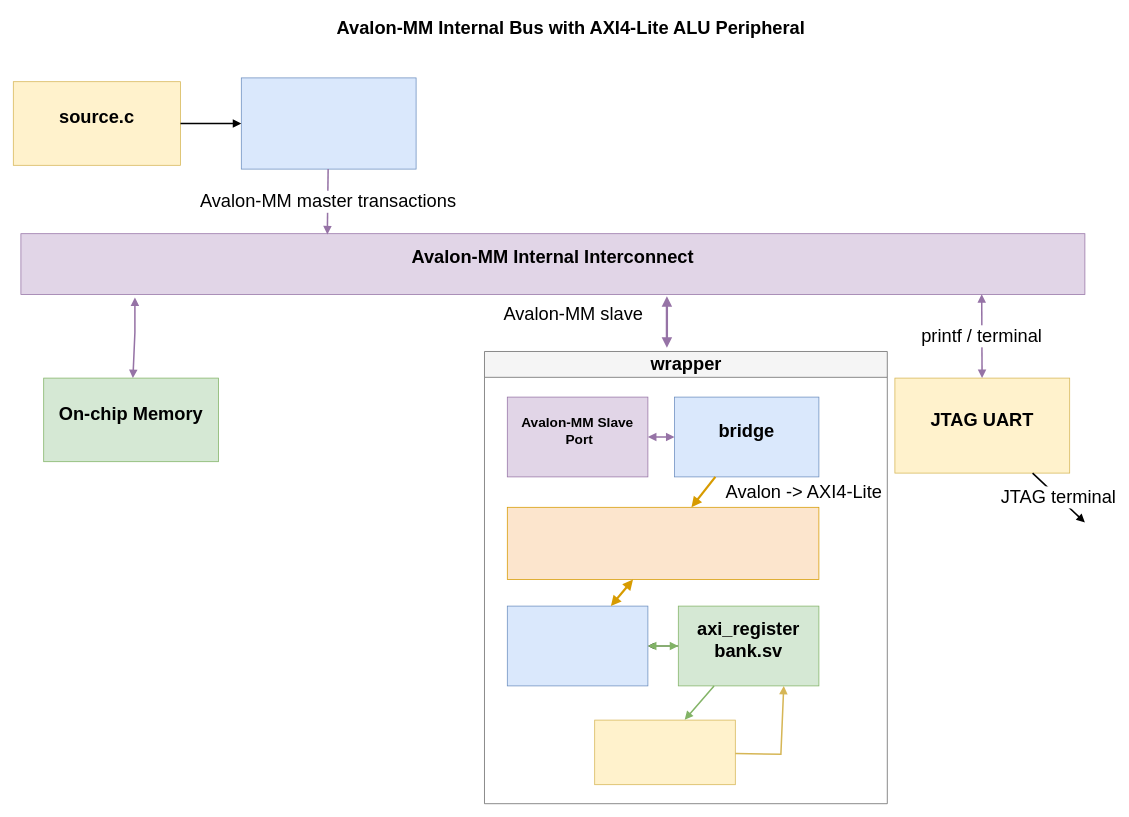
The diagram is 1129 pixels wide and 817 high, and some of its shapes have lost their labels. The centre of each missing label's shape, as x and y in pixels:
"alu_core.sv" belongs at point 664,752.
"AXI4-Lite Internal Channels" belongs at point 663,543.
"axi4lite slave.sv" belongs at point 577,645.
"Nios II CPU" belongs at point 328,123.
